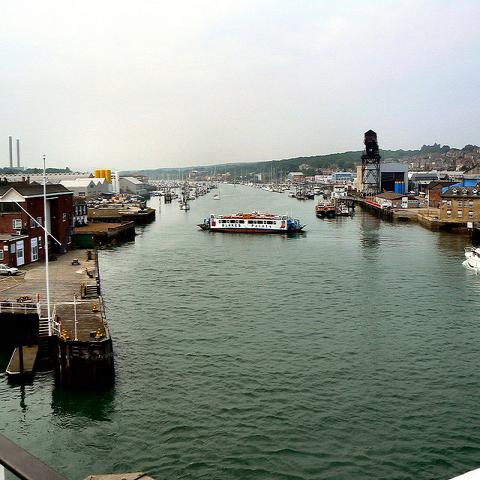car: (0, 264, 19, 276), (16, 295, 32, 302), (382, 202, 388, 206)
